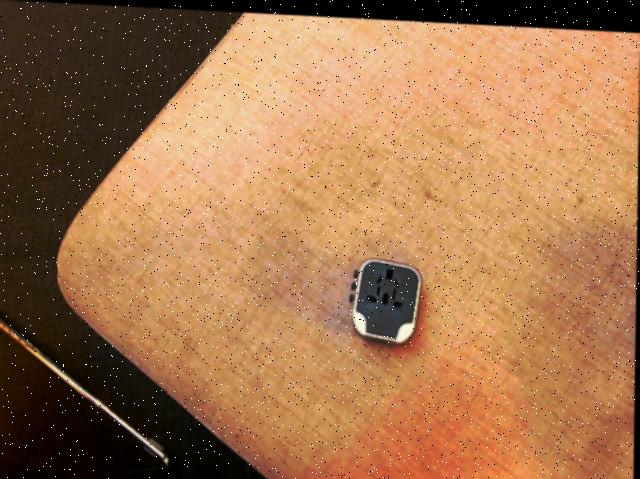adapter: (349, 252, 423, 340)
